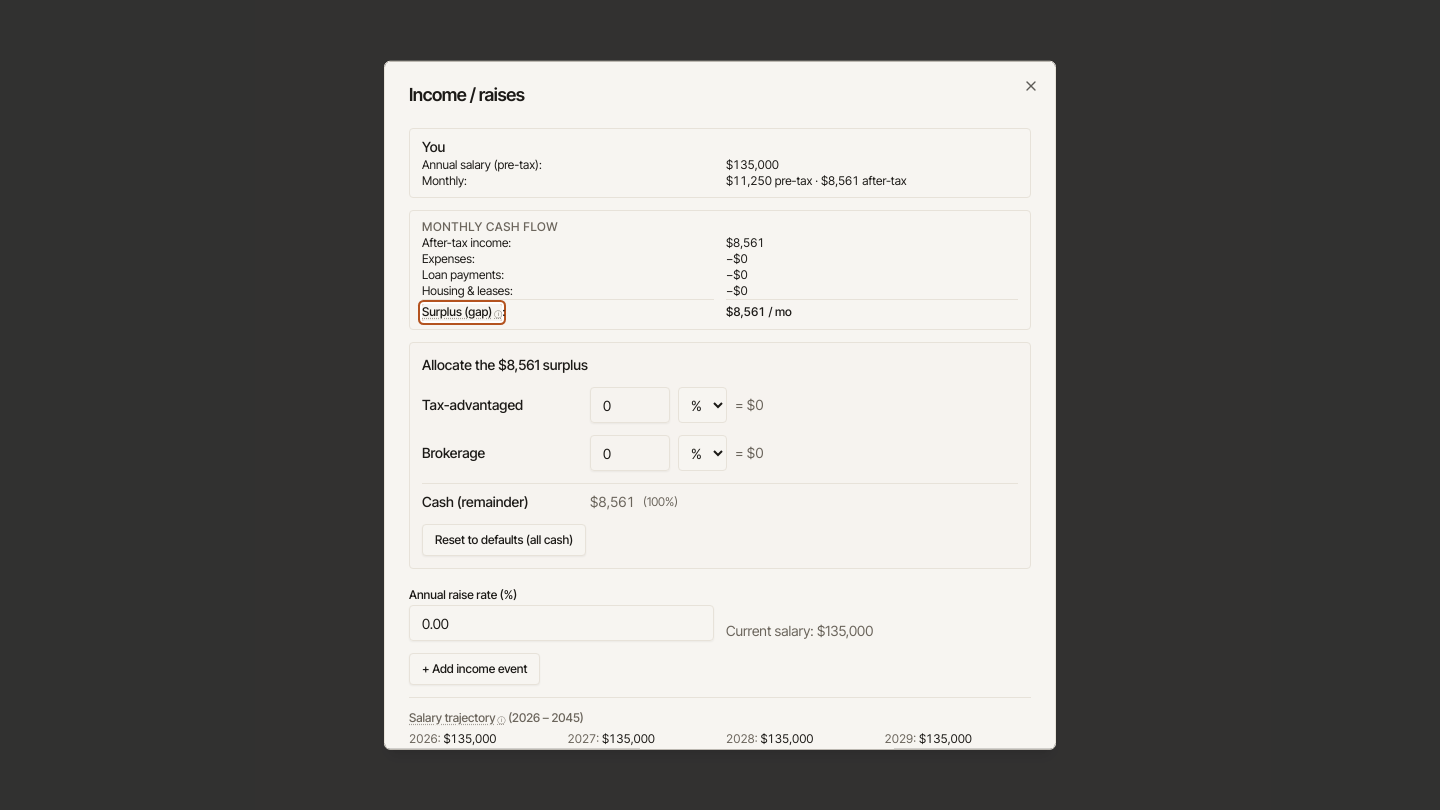
Test: IncomePopover › raise-rate input edits the active person's plan (percentage)
Replace the text in the number field labelled "Annual raise rate (%)" with "5": x=562, y=623 [409,605,714,641]
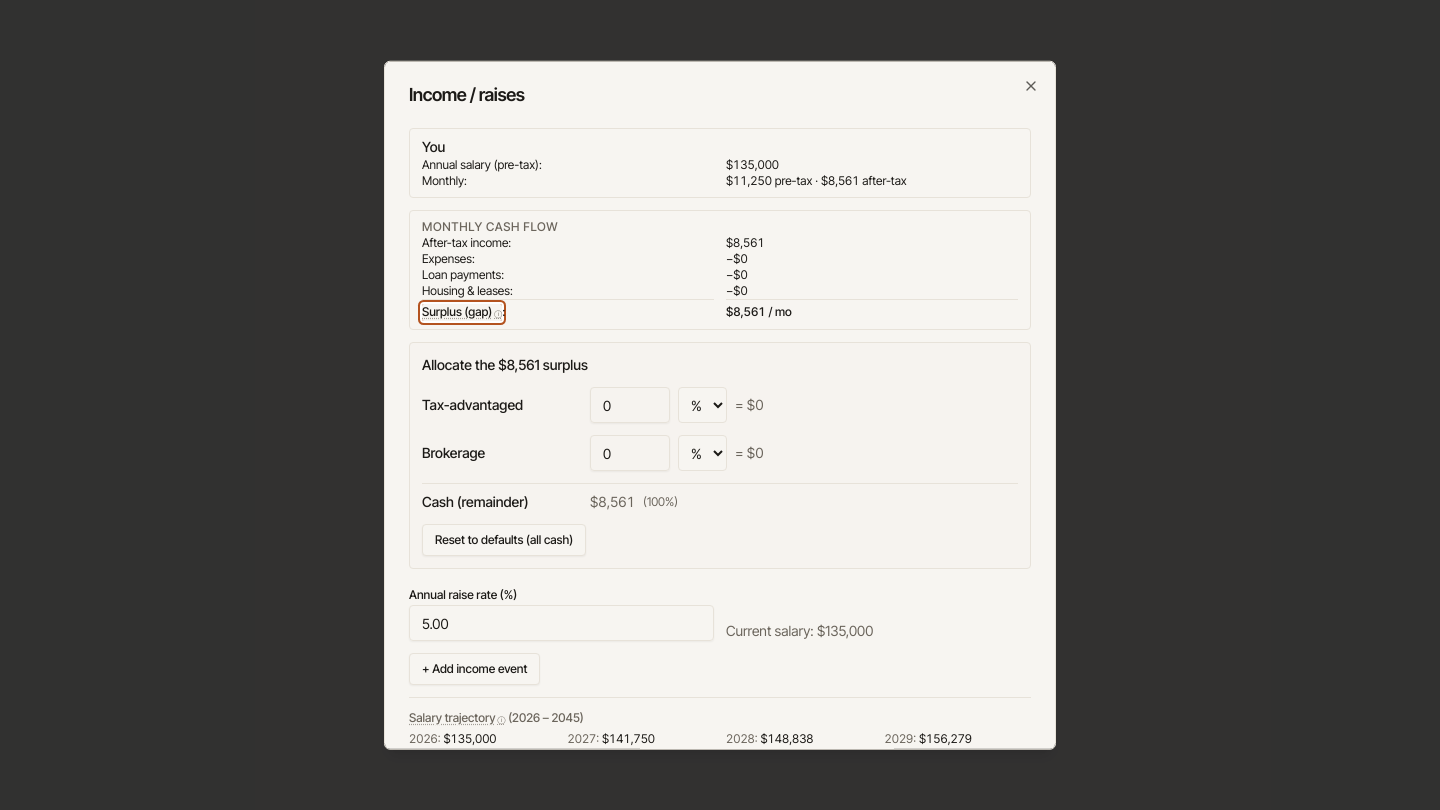
expect the number field labelled "Annual raise rate (%)" holds "5.00": met, box [409,605,714,641]
